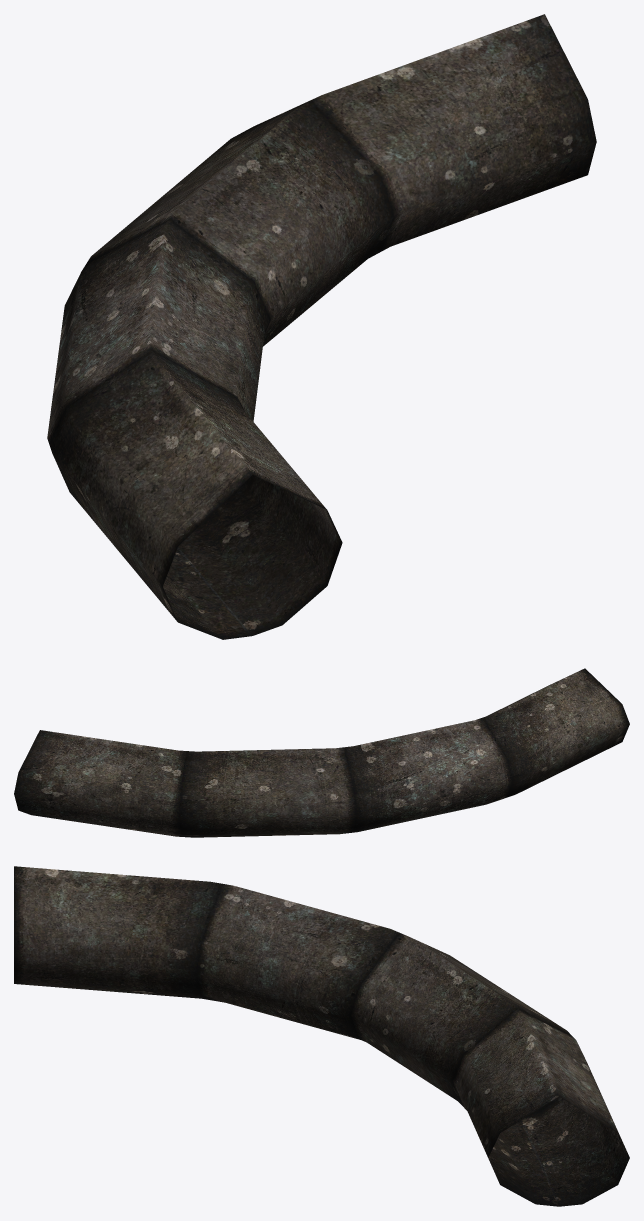
File: large_90_right.dae
3 renders of one model, top to bottom at view 1: azimuth 30°, elevation 25°; view 2: azimuth 150°, elevation 25°; view 3: azimuth 270°, elevation 25°, orthographic. The views are drawn at different scales.
Parts seen in each view (by area): view 1: tentacle_large_90_right; view 2: tentacle_large_90_right; view 3: tentacle_large_90_right.
Part boxes in pixels (x1=…): tentacle_large_90_right: x1=47, y1=14, x2=596, y2=639; tentacle_large_90_right: x1=14, y1=668, x2=629, y2=837; tentacle_large_90_right: x1=14, y1=866, x2=629, y2=1206.
Bounding box in the file's own units: 2.26 × 0.4458 × 2.26.
